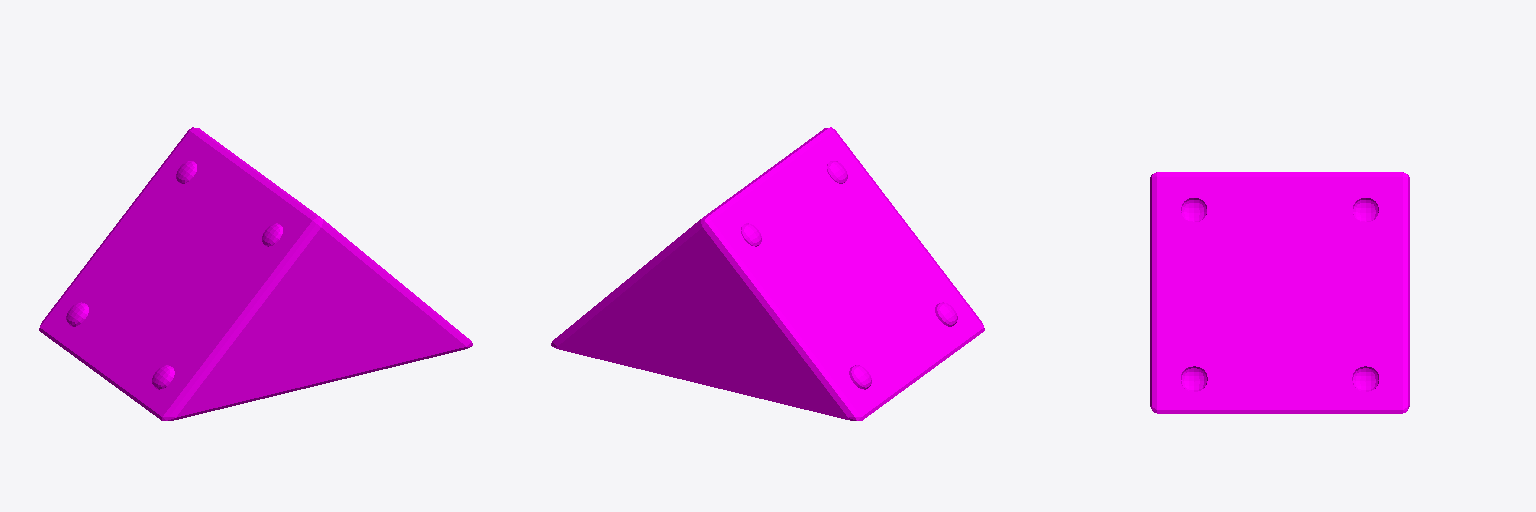
The model's file is prism_dots.obj.
3 renders of one model, left to right at view 1: azimuth 30°, elevation 25°; view 2: azimuth 150°, elevation 25°; view 3: azimuth 270°, elevation 25°, orthographic.
Parts seen in each view (by area): view 1: OnePrismDots; view 2: OnePrismDots; view 3: OnePrismDots.
Boxes of the visible parts, <box> form: OnePrismDots: <box>39,127,472,420</box>; OnePrismDots: <box>551,127,984,420</box>; OnePrismDots: <box>1150,172,1409,413</box>.
Size of the model in its own units: 0.9739 by 0.5 by 0.7071.